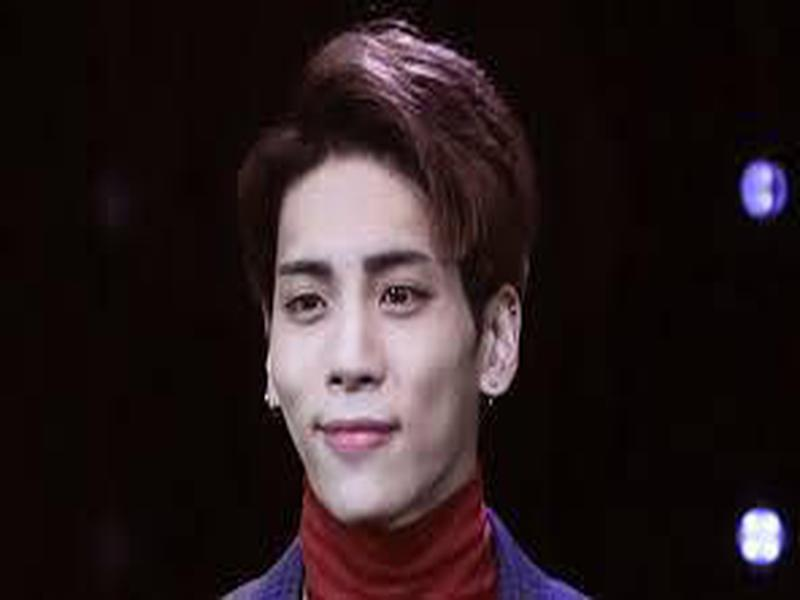without_mask: (272, 176, 463, 525)
